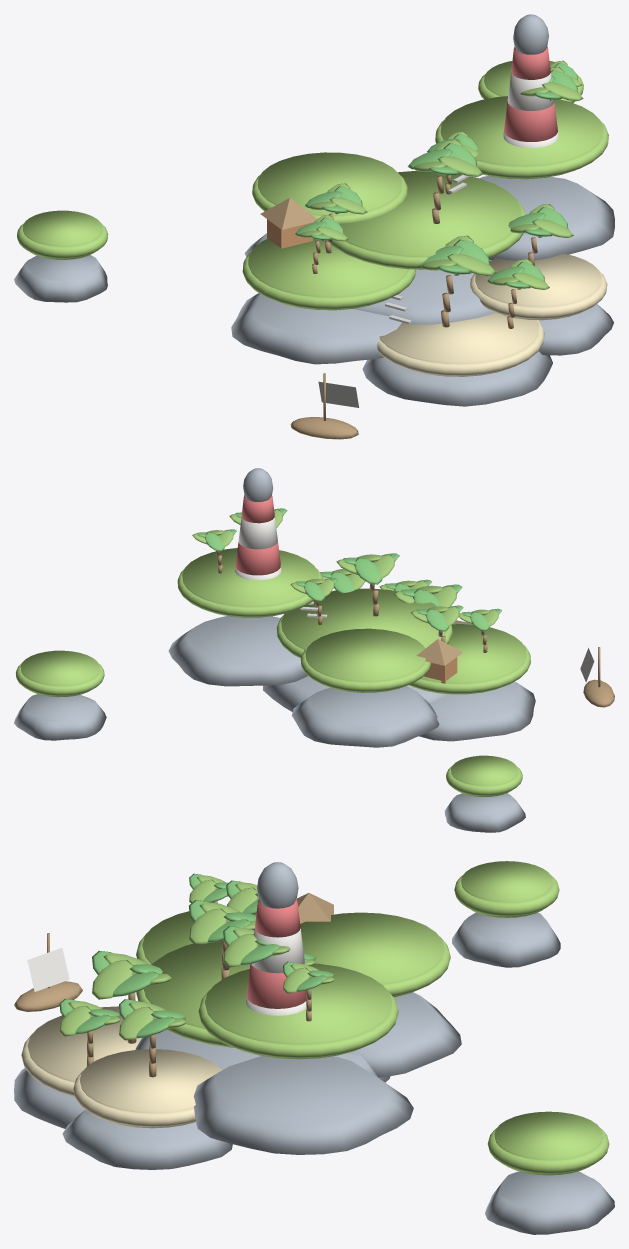
The model's file is sunlit_shores_v2.glb.
3 renders of one model, top to bottom at view 1: azimuth 30°, elevation 25°; view 2: azimuth 150°, elevation 25°; view 3: azimuth 270°, elevation 25°, orthographic. The views are drawn at different scales.
Parts seen in each view (by area): view 1: Center_cap, Left_rock, Right_cap, Left_cap, Back_cap, Right_rock, Beach_cap, Beach_rock, Mid_cap, Center_rock, Far1_rock, Mid_rock (+18 smaller); view 2: Right_rock, Back_rock, Center_cap, Back_cap, Right_cap, Left_rock, Left_cap, Far2_rock, Far1_rock, Far2_cap, Far1_cap, Right_rim (+13 smaller); view 3: Right_rock, Right_cap, Back_cap, Mid_cap, Far2_rock, Mid_rock, Back_rock, Far1_rock, Far2_cap, Center_cap, Beach_cap, Far1_cap (+23 smaller).
Boxes of the visible parts, x1=… form: Center_cap: x1=339, y1=171, x2=521, y2=269; Left_rock: x1=231, y1=293, x2=401, y2=364; Right_cap: x1=440, y1=96, x2=603, y2=179; Left_cap: x1=248, y1=238, x2=408, y2=310; Back_cap: x1=257, y1=152, x2=402, y2=215; Right_rock: x1=479, y1=176, x2=614, y2=260; Beach_cap: x1=379, y1=313, x2=538, y2=376; Beach_rock: x1=362, y1=351, x2=552, y2=406; Mid_cap: x1=475, y1=253, x2=601, y2=320; Center_rock: x1=353, y1=259, x2=495, y2=324; Far1_rock: x1=14, y1=255, x2=107, y2=302; Mid_rock: x1=538, y1=304, x2=613, y2=355; Right_rock: x1=168, y1=616, x2=307, y2=686; Back_rock: x1=292, y1=686, x2=439, y2=747; Center_cap: x1=281, y1=588, x2=446, y2=649; Back_cap: x1=305, y1=628, x2=425, y2=692; Right_cap: x1=182, y1=548, x2=318, y2=617; Left_rock: x1=419, y1=681, x2=535, y2=741; Left_cap: x1=413, y1=624, x2=526, y2=694; Far2_rock: x1=14, y1=694, x2=106, y2=740; Far1_rock: x1=444, y1=793, x2=525, y2=832; Far2_cap: x1=20, y1=650, x2=99, y2=697; Far1_cap: x1=451, y1=755, x2=517, y2=797; Right_rim: x1=177, y1=568, x2=322, y2=616; Right_rock: x1=193, y1=1056, x2=413, y2=1154; Right_cap: x1=205, y1=963, x2=392, y2=1059; Back_cap: x1=300, y1=912, x2=444, y2=997; Mid_cap: x1=80, y1=1049, x2=221, y2=1128; Far2_rock: x1=485, y1=1171, x2=614, y2=1234; Mid_rock: x1=62, y1=1109, x2=232, y2=1169; Back_rock: x1=347, y1=992, x2=461, y2=1077; Far1_rock: x1=452, y1=912, x2=560, y2=967; Far2_cap: x1=494, y1=1111, x2=602, y2=1175; Center_cap: x1=143, y1=941, x2=250, y2=1047; Beach_cap: x1=27, y1=1006, x2=141, y2=1096; Far1_cap: x1=461, y1=861, x2=552, y2=917.
Size of the model in its own units: 36.68 by 16.31 by 28.84.
